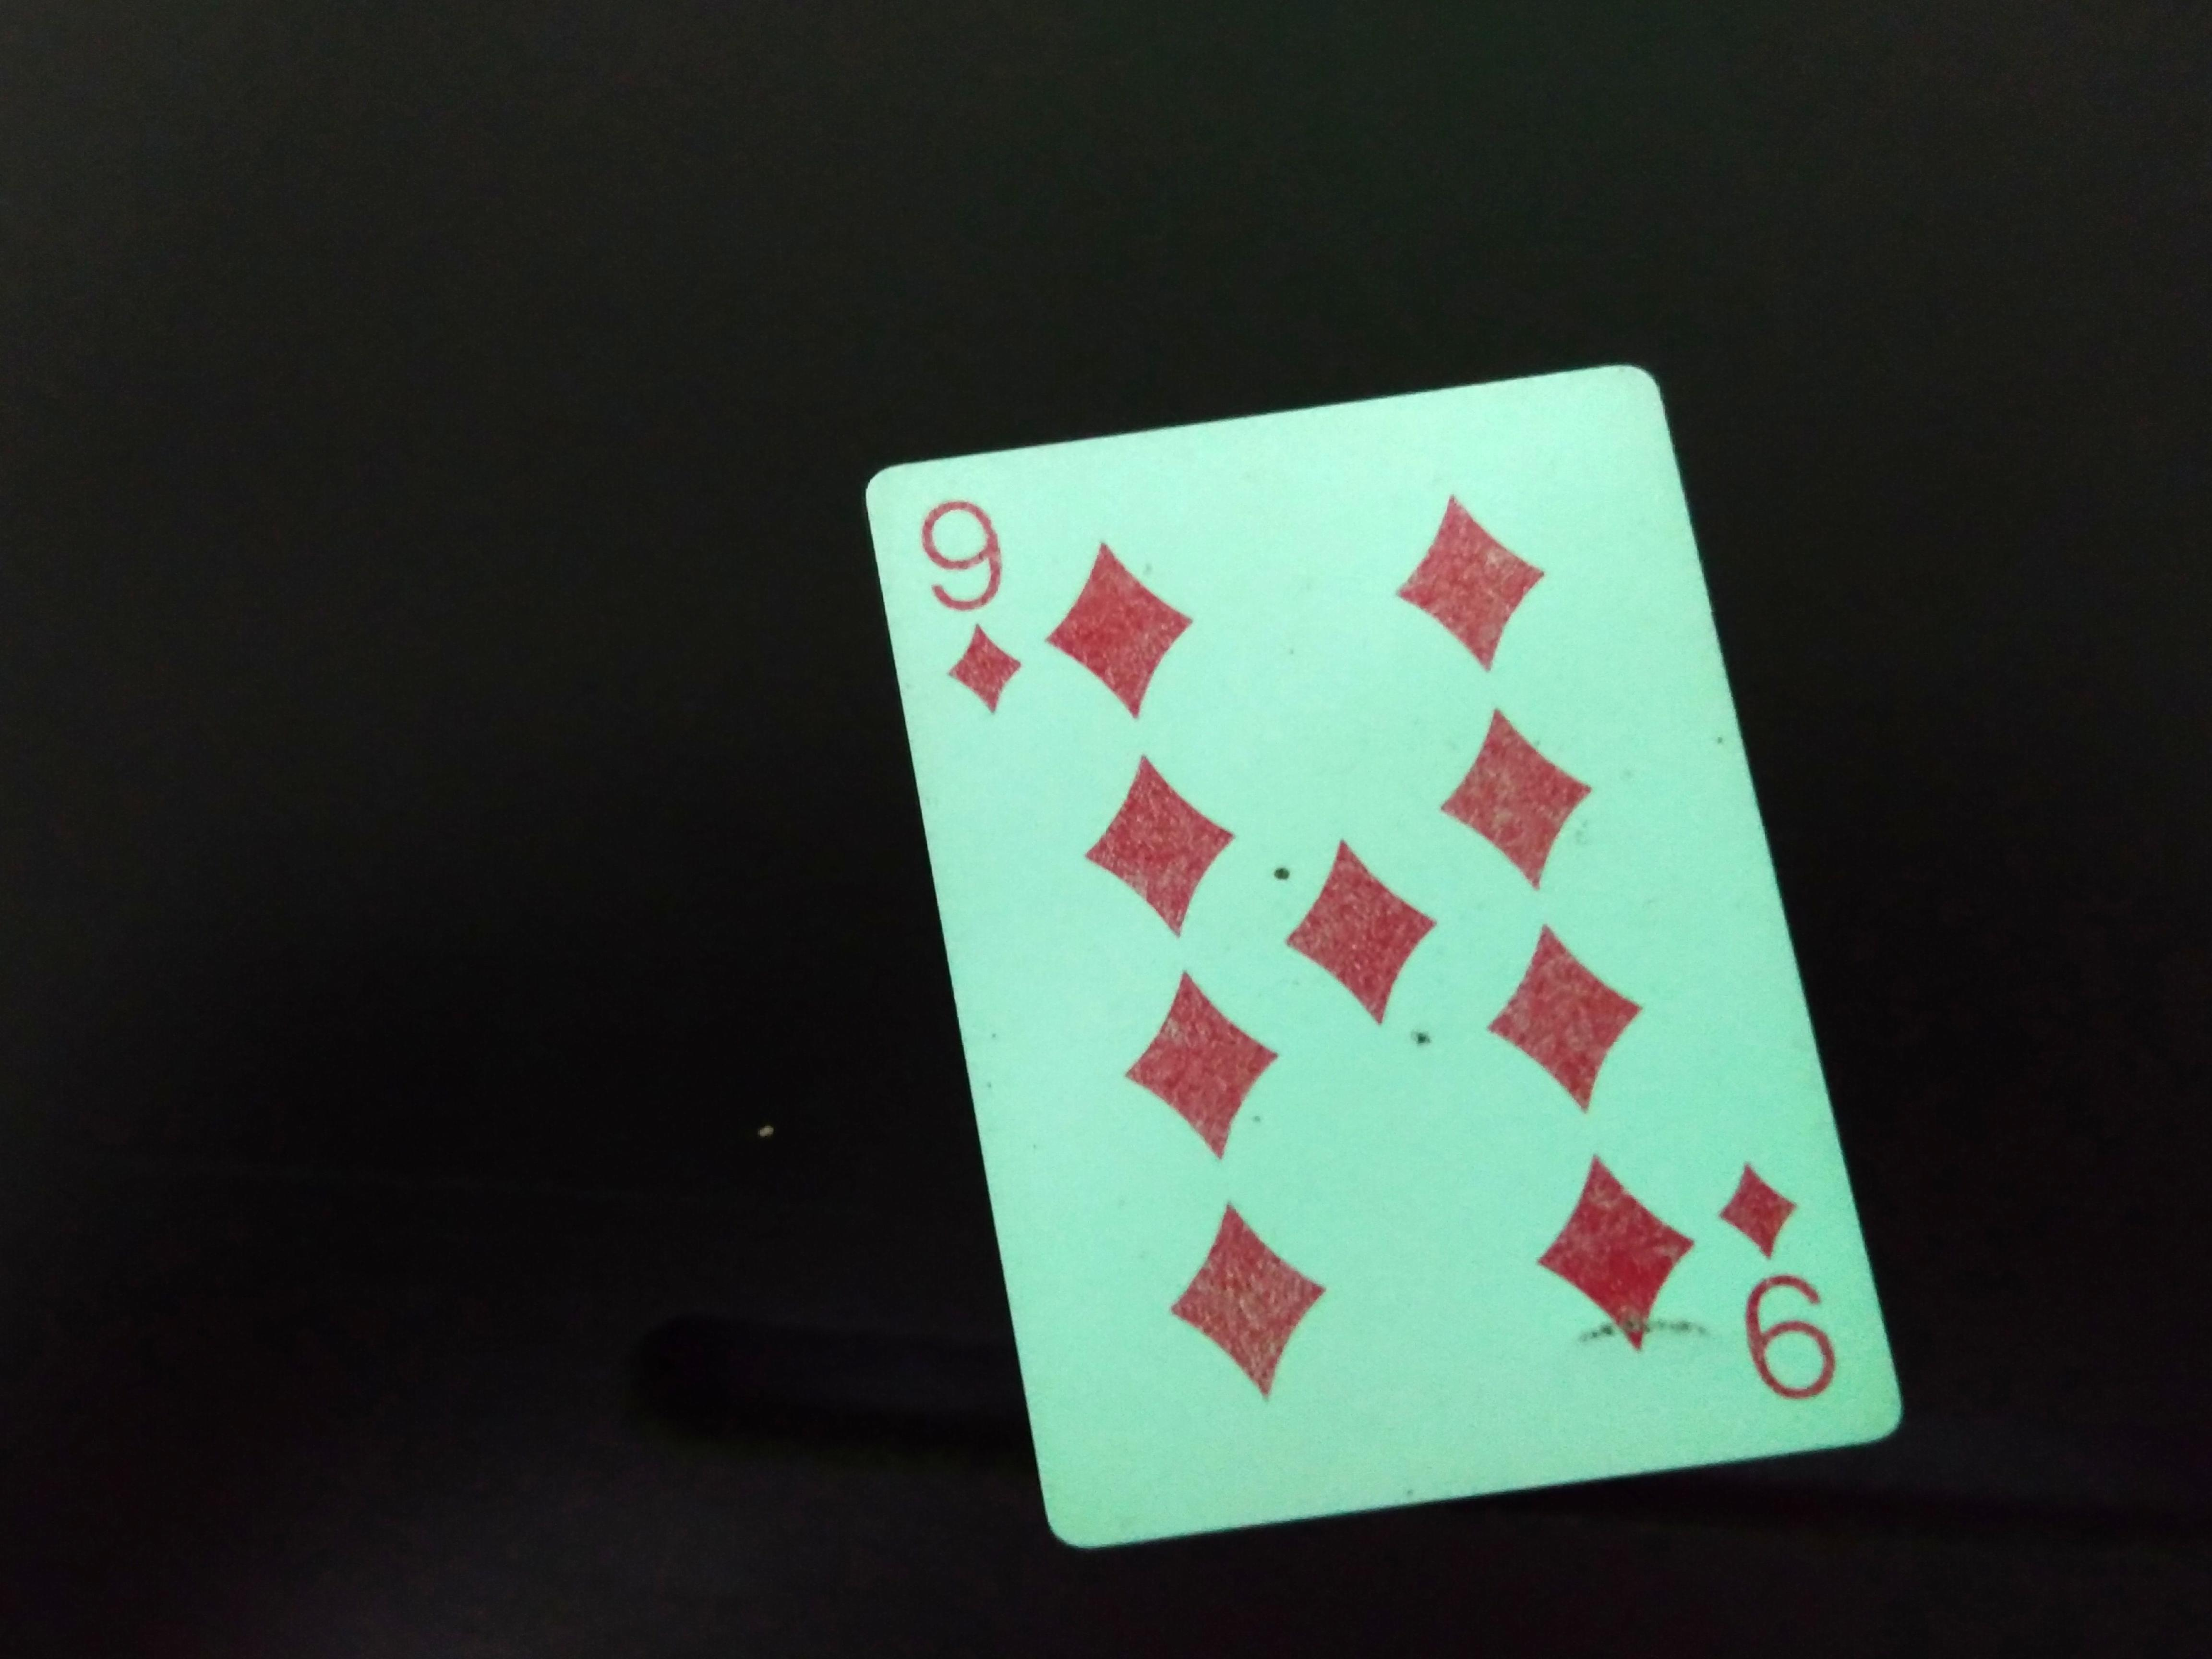9D: (888, 483, 1073, 765)
